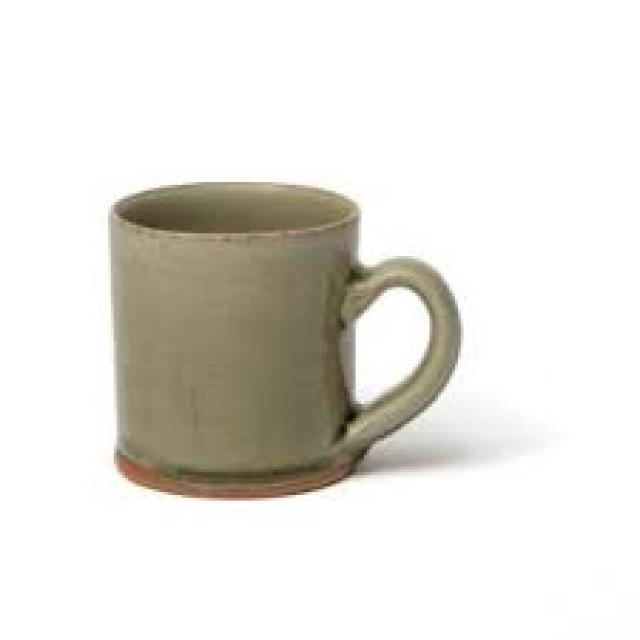taza: (108, 180, 464, 497)
